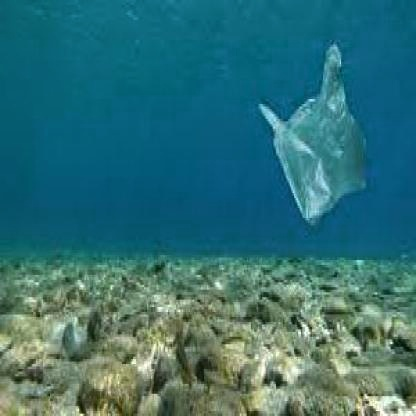pbag: (257, 42, 370, 225)
